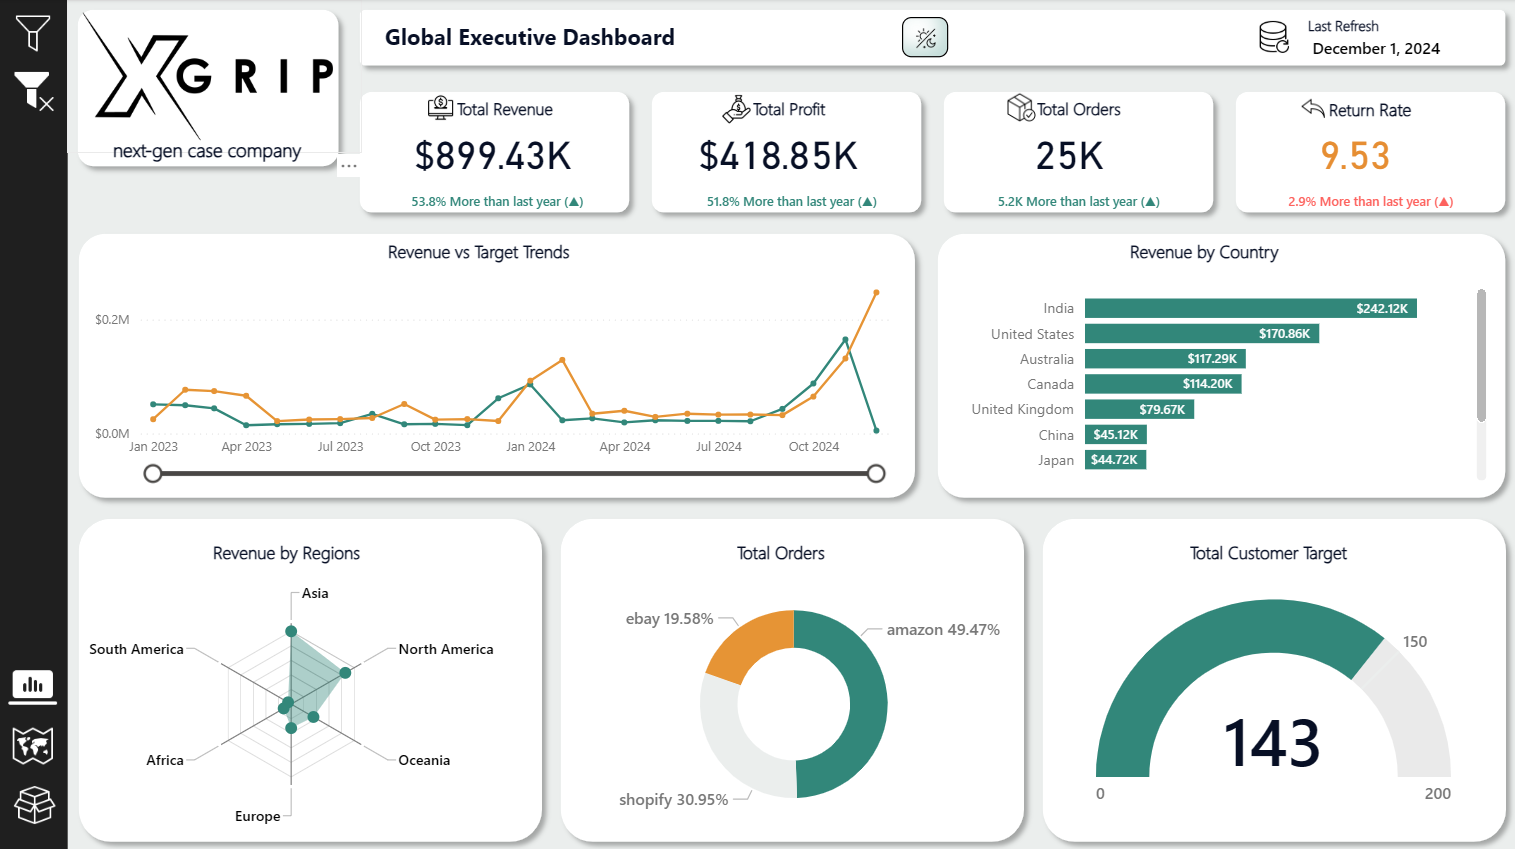

What the dashboard file says about the page in this screenshot:
{"tool":"powerbi","page":{"name":"Executive Dashboard","canvas":[1280,720],"ordinal":0},"visuals":[{"type":"shape","title":"Heading shape","box":[295.3,0,984.7,65.2],"z":0},{"type":"shape","title":"KPI 1","box":[295.3,69,245.5,120],"z":0,"group":"g1"},{"type":"shape","title":"Logo shape","box":[58,188.6,723.6,240.8],"z":0,"group":"g2"},{"type":"image","title":"Map Chart","box":[5.4,605.6,47.1,49.8],"z":0,"group":"g3"},{"type":"shape","title":"Logo shpae","box":[57.8,0,238.1,150.1],"z":1000},{"type":"shape","title":"KPI 2","box":[541.7,69,245.5,120],"z":1000,"group":"g1"},{"type":"shape","title":"Logo shape","box":[783,188.6,497,240.7],"z":1000,"group":"g2"},{"type":"image","title":"Dashboard ceo","box":[0,553.1,57.9,52.5],"z":1000,"group":"g3"},{"type":"shape","title":"Filter shape","box":[0,0,58,720.1],"z":2000},{"type":"shape","title":"KPI 3","box":[788.1,69,245.5,120],"z":2000,"group":"g1"},{"type":"shape","title":"Logo shape","box":[58,429.4,409,290.7],"z":2000,"group":"g2"},{"type":"image","title":"Product Chart","box":[7.2,655.4,45.3,49.8],"z":2000,"group":"g3"},{"type":"group","id":"g1","title":"KPI","box":[295.3,69,984.7,120],"z":3000},{"type":"shape","title":"KPI 4","box":[1034.5,69,245.5,120],"z":3000,"group":"g1"},{"type":"shape","title":"Logo shape","box":[464.5,429.4,409,290.7],"z":3000,"group":"g2"},{"type":"group","id":"g2","title":"Chart","box":[58,188.6,1222,531.5],"z":4000},{"type":"shape","title":"Logo shape","box":[871.1,429.4,409,290.7],"z":4000,"group":"g2"},{"type":"image","box":[57.8,0.9,248.4,129.4],"z":5000},{"type":"textbox","box":[320.9,13.8,285.5,37.1],"z":6000},{"type":"card","fields":{"Values":["measures table.total revenue"]},"box":[333.8,99.2,164.7,60.4],"z":7000},{"type":"card","fields":{"Values":["measures table.total profit"]},"box":[576.2,99.2,162.2,59.5],"z":8000},{"type":"card","fields":{"Values":["measures table.total orders"]},"box":[817.7,99.2,170.8,59.5],"z":9000},{"type":"card","fields":{"Values":["measures table.return rate"]},"box":[1059.2,99.2,170.8,60.4],"z":10000},{"type":"barChart","fields":{"Category":["Country.country"],"Y":["measures table.total revenue"]},"box":[808.3,231.1,451.6,180.3],"z":11000},{"type":"RadarChart1446119667547","fields":{"Category":["Country.region"],"Y":["measures table.total revenue"]},"box":[41.2,485.2,410.4,219.6],"z":12000},{"type":"donutChart","fields":{"Category":["mrkt_place.platform_name"],"Y":["measures table.total orders"]},"box":[489,485.2,362.4,219.6],"z":13000},{"type":"gauge","fields":{"Y":["measures table.total customers"]},"box":[920.4,485.2,309.7,219.6],"z":14000},{"type":"lineChart","fields":{"Y":["measures table.total revenue","measures table.monthly rev target lc"],"Category":["date table.YEAR Hierarchy.YEAR","date table.YEAR Hierarchy.Quarter","date table.YEAR Hierarchy.Month Start Date"]},"box":[74.8,208.1,692.3,203.3],"z":15000},{"type":"image","box":[355.4,75,35.4,32.8],"z":16000},{"type":"textbox","box":[381.2,77.6,117.3,33.6],"z":17000},{"type":"image","box":[603.8,75.9,36.2,33.6],"z":18000},{"type":"textbox","box":[631.4,77.6,83.7,30.2],"z":19000},{"type":"image","box":[843.6,73.3,37.1,36.2],"z":20000},{"type":"textbox","box":[871.2,77.6,117.3,33.6],"z":21000},{"type":"textbox","box":[91.4,111.3,181.1,38.8],"z":21500},{"type":"image","box":[1092.8,77.6,32.8,30.2],"z":22000},{"type":"textbox","box":[1117,77.6,88.8,33.6],"z":23000},{"type":"textbox","box":[323.5,197.5,175.1,33.6],"z":24000},{"type":"textbox","box":[949.6,197.5,163.9,33.6],"z":25000},{"type":"textbox","box":[175.1,451.1,142.3,33.6],"z":26000},{"type":"textbox","box":[617.6,451.1,103.5,33.6],"z":27000},{"type":"textbox","box":[999.7,451.1,151.8,33.6],"z":28000},{"type":"image","box":[1050.6,13.8,49.2,37.1],"z":29000},{"type":"textbox","box":[1099.7,6.9,94.9,33.6],"z":30000},{"type":"card","fields":{"Values":["measures table.last refresh"]},"box":[1075.6,29.3,172.5,27.6],"z":31000},{"type":"group","id":"g3","title":"Page Nav Icons","box":[0,553.1,57.9,152.1],"z":32000},{"type":"image","title":"Filter icon","box":[4.6,8,49.1,43.4],"z":33000},{"type":"image","title":"Clear all filters btn","box":[5.4,56.1,48.9,43.5],"z":34000},{"type":"card","fields":{"Values":["measures table.KPI Revenue"]},"box":[329.8,159.2,181.2,25.9],"z":36000},{"type":"card","fields":{"Values":["measures table.KPI Profit"]},"box":[579.1,159.2,180.3,25.9],"z":37000},{"type":"card","fields":{"Values":["measures table.KPI orders"]},"box":[820.7,159.2,180.3,25.9],"z":38000},{"type":"card","fields":{"Values":["measures table.KPI return_rate"]},"box":[1067.1,159.2,180.3,25.9],"z":39000},{"type":"image","box":[761.6,15.5,38.8,33.6],"z":40000}]}

Visuals, with their boxes on the page's 1280x720 design canvas (x1, y1, x2, y2). These are canvas units, not pixel positions in the 1515x849 screenshot, which may show the page scaled, cropped or inside an application window:
"Heading shape" shape: bbox=[295, 0, 1280, 65]
"KPI 1" shape: bbox=[295, 69, 541, 189]
"Logo shape" shape: bbox=[58, 189, 782, 429]
"Map Chart" image: bbox=[5, 606, 52, 655]
"Logo shpae" shape: bbox=[58, 0, 296, 150]
"KPI 2" shape: bbox=[542, 69, 787, 189]
"Logo shape" shape: bbox=[783, 189, 1280, 429]
"Dashboard ceo" image: bbox=[0, 553, 58, 606]
"Filter shape" shape: bbox=[0, 0, 58, 720]
"KPI 3" shape: bbox=[788, 69, 1034, 189]
"Logo shape" shape: bbox=[58, 429, 467, 720]
"Product Chart" image: bbox=[7, 655, 52, 705]
"KPI" group: bbox=[295, 69, 1280, 189]
"KPI 4" shape: bbox=[1034, 69, 1280, 189]
"Logo shape" shape: bbox=[464, 429, 874, 720]
"Chart" group: bbox=[58, 189, 1280, 720]
"Logo shape" shape: bbox=[871, 429, 1280, 720]
image: bbox=[58, 1, 306, 130]
textbox: bbox=[321, 14, 606, 51]
card - measures table.total revenue: bbox=[334, 99, 498, 160]
card - measures table.total profit: bbox=[576, 99, 738, 159]
card - measures table.total orders: bbox=[818, 99, 988, 159]
card - measures table.return rate: bbox=[1059, 99, 1230, 160]
barChart - Country.country x measures table.total revenue: bbox=[808, 231, 1260, 411]
RadarChart1446119667547 - Country.region x measures table.total revenue: bbox=[41, 485, 452, 705]
donutChart - mrkt_place.platform_name x measures table.total orders: bbox=[489, 485, 851, 705]
gauge - measures table.total customers: bbox=[920, 485, 1230, 705]
lineChart - measures table.total revenue x measures table.monthly rev target lc: bbox=[75, 208, 767, 411]
image: bbox=[355, 75, 391, 108]
textbox: bbox=[381, 78, 498, 111]
image: bbox=[604, 76, 640, 110]
textbox: bbox=[631, 78, 715, 108]
image: bbox=[844, 73, 881, 110]
textbox: bbox=[871, 78, 988, 111]
textbox: bbox=[91, 111, 272, 150]
image: bbox=[1093, 78, 1126, 108]
textbox: bbox=[1117, 78, 1206, 111]
textbox: bbox=[324, 198, 499, 231]
textbox: bbox=[950, 198, 1114, 231]
textbox: bbox=[175, 451, 317, 485]
textbox: bbox=[618, 451, 721, 485]
textbox: bbox=[1000, 451, 1152, 485]
image: bbox=[1051, 14, 1100, 51]
textbox: bbox=[1100, 7, 1195, 40]
card - measures table.last refresh: bbox=[1076, 29, 1248, 57]
"Page Nav Icons" group: bbox=[0, 553, 58, 705]
"Filter icon" image: bbox=[5, 8, 54, 51]
"Clear all filters btn" image: bbox=[5, 56, 54, 100]
card - measures table.KPI Revenue: bbox=[330, 159, 511, 185]
card - measures table.KPI Profit: bbox=[579, 159, 759, 185]
card - measures table.KPI orders: bbox=[821, 159, 1001, 185]
card - measures table.KPI return_rate: bbox=[1067, 159, 1247, 185]
image: bbox=[762, 16, 800, 49]
